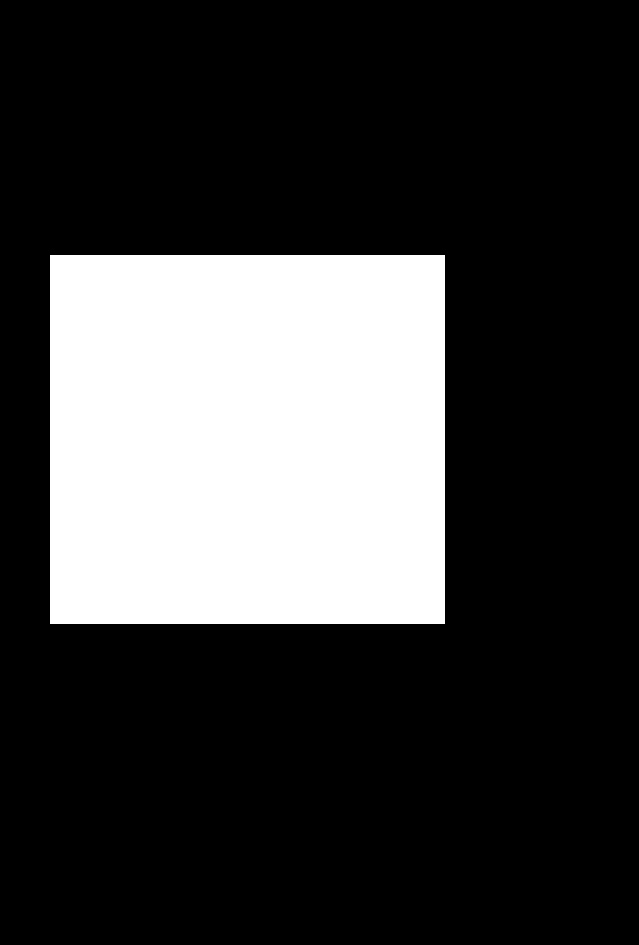table: (50, 255, 444, 623)
